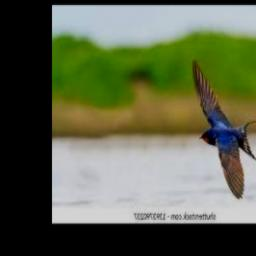Swallow: (192, 57, 256, 199)
